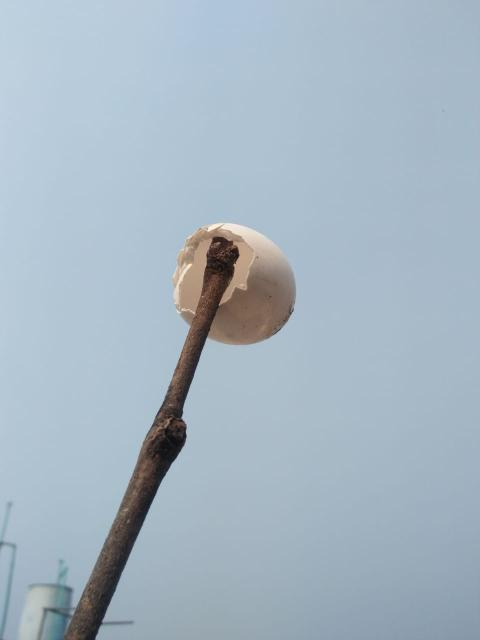Roto: (172, 221, 296, 346), (17, 582, 74, 639)
